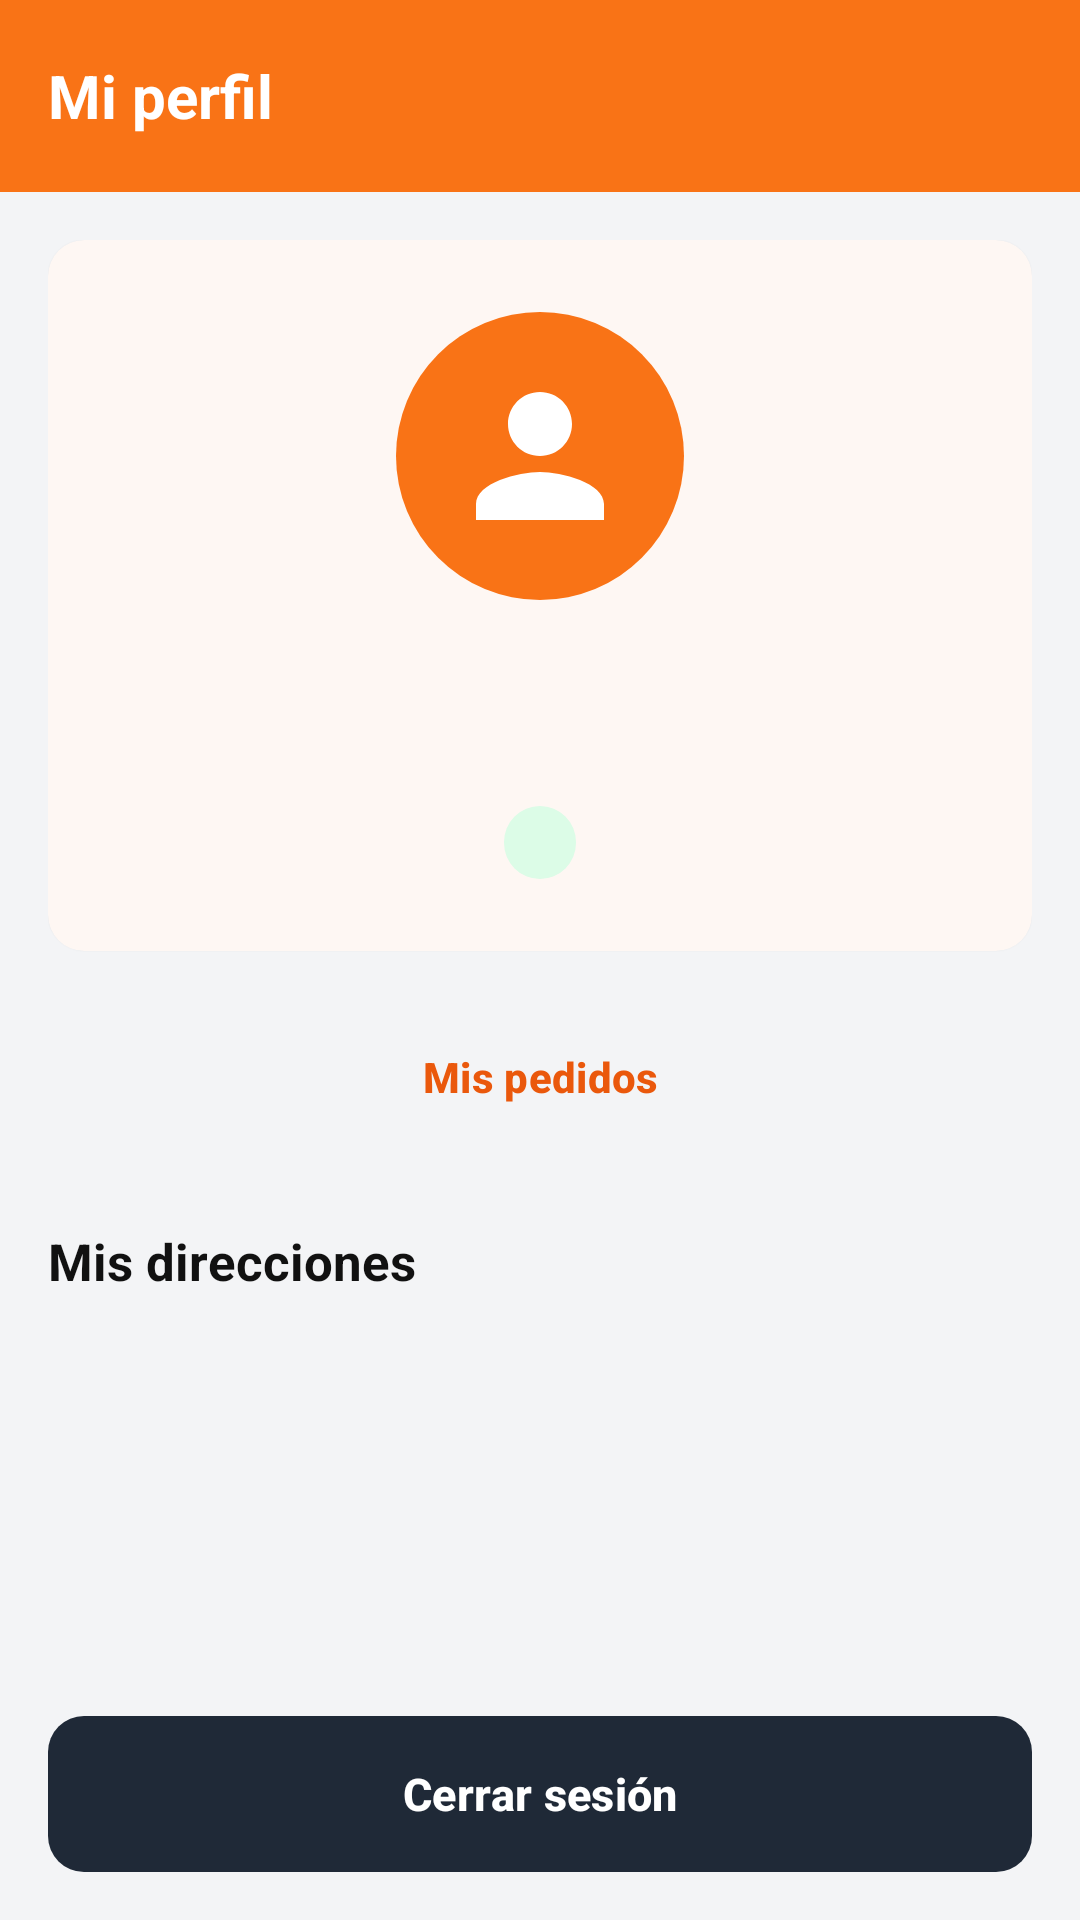

Locate icon controls on the screen. Image size 1080x1920, boxes as bbox=(x1, y1, x2, y2).
Foto de perfil: bbox=(396, 312, 684, 600)
